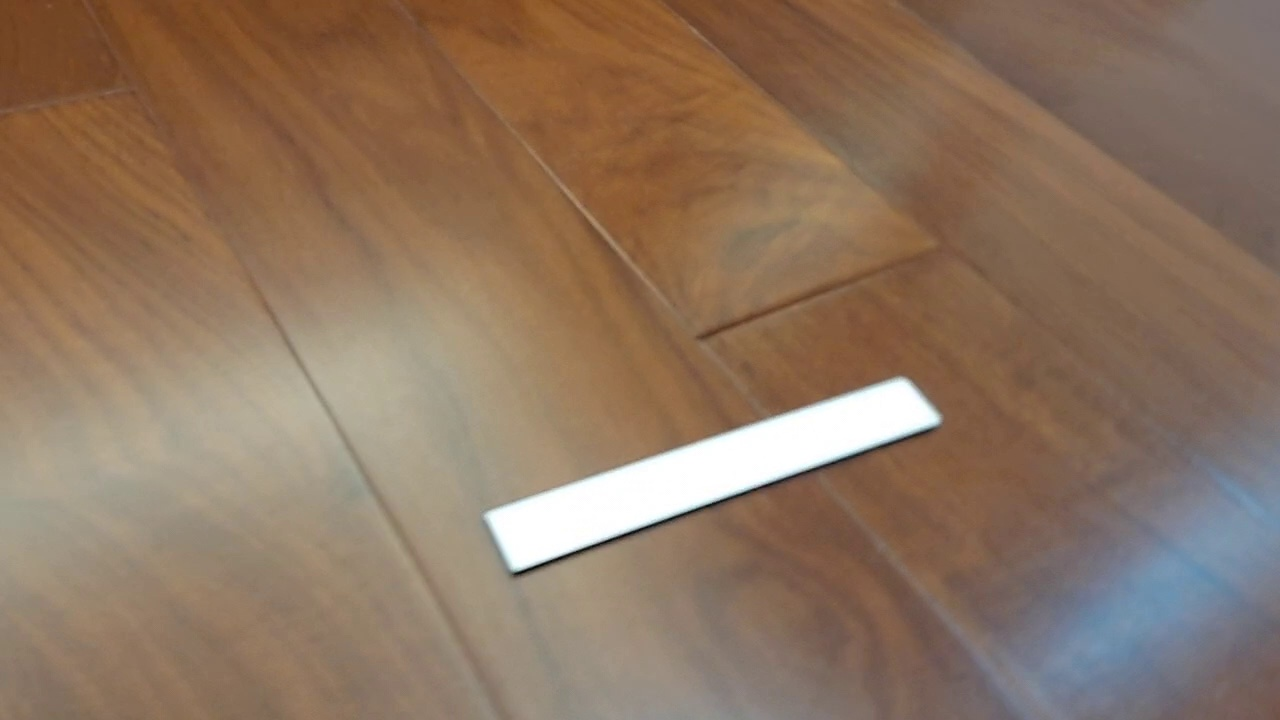ruler: (480, 375, 944, 578)
